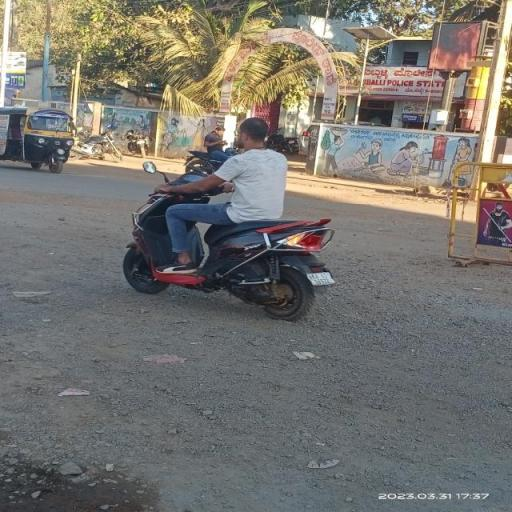bike: (121, 115, 344, 321)
withouthelmet: (241, 119, 268, 147)
